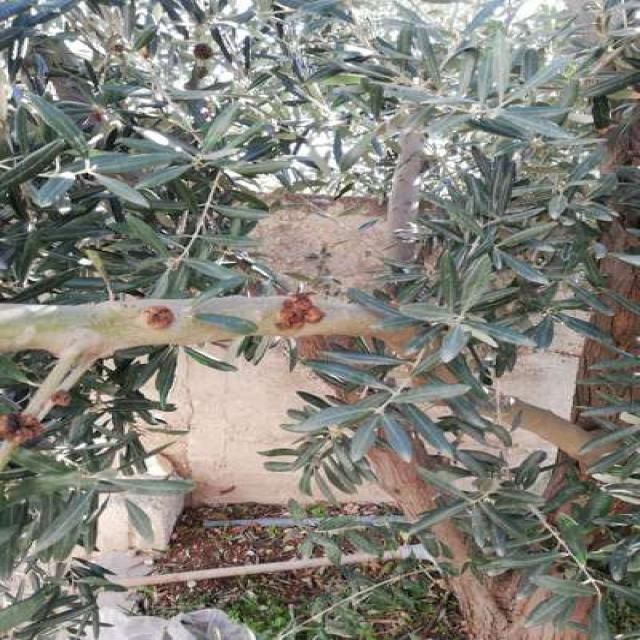Tuberculosis: (275, 291, 325, 333), (142, 306, 173, 329)
